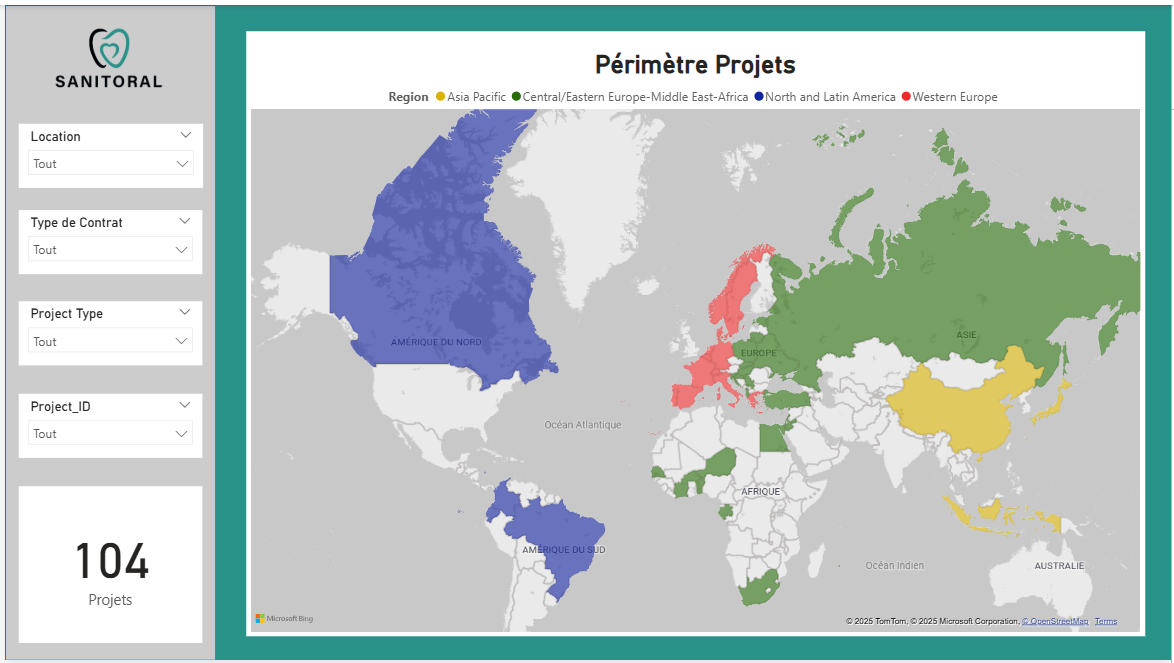

Layout of this report page (visuals, bound fields, positions):
{"tool":"powerbi","page":{"name":"Cartographie Projets","canvas":[1280,720],"ordinal":2},"visuals":[{"type":"filledMap","title":"Périmètre Projets","fields":{"Category":["Projects_Locations.Country"],"Series":["Projects_Locations.Region"]},"box":[264.6,29.2,986.3,664.3],"z":0},{"type":"shape","box":[0,0,231.5,719.8],"z":1000},{"type":"slicer","fields":{"Values":["Country_Profiles.Region","Country_Profiles.Country"]},"box":[14.6,130.3,202.3,70],"z":2000},{"type":"image","box":[37,14.6,156.6,91.4],"z":3000},{"type":"slicer","fields":{"Values":["Projects_Locations.Project_ID"]},"box":[14.6,427,201.3,70],"z":4000},{"type":"slicer","fields":{"Values":["Country_Profiles.Type"]},"box":[14.6,225.7,201.3,70],"z":5000},{"type":"card","fields":{"Values":["Count(Deliverables_status.Project_ID)"]},"box":[14.6,528.1,201.3,172.2],"z":6000},{"type":"slicer","fields":{"Values":["Project type.Project Type"]},"box":[14.6,324.9,201.3,70],"z":7000}]}

Visuals, with their boxes in screenshot pixels (x1, y1, x2, y2), scaled from the page's 1280x720 canvas onto the 1174x663 screenshot:
"Périmètre Projets" filledMap: left=243, top=27, right=1147, bottom=639
shape: left=0, top=0, right=212, bottom=662
slicer - Country_Profiles.Region x Country_Profiles.Country: left=13, top=120, right=199, bottom=184
image: left=34, top=13, right=178, bottom=98
slicer - Projects_Locations.Project_ID: left=13, top=393, right=198, bottom=458
slicer - Country_Profiles.Type: left=13, top=208, right=198, bottom=272
card - Count(Deliverables_status.Project_ID): left=13, top=486, right=198, bottom=645
slicer - Project type.Project Type: left=13, top=299, right=198, bottom=364
